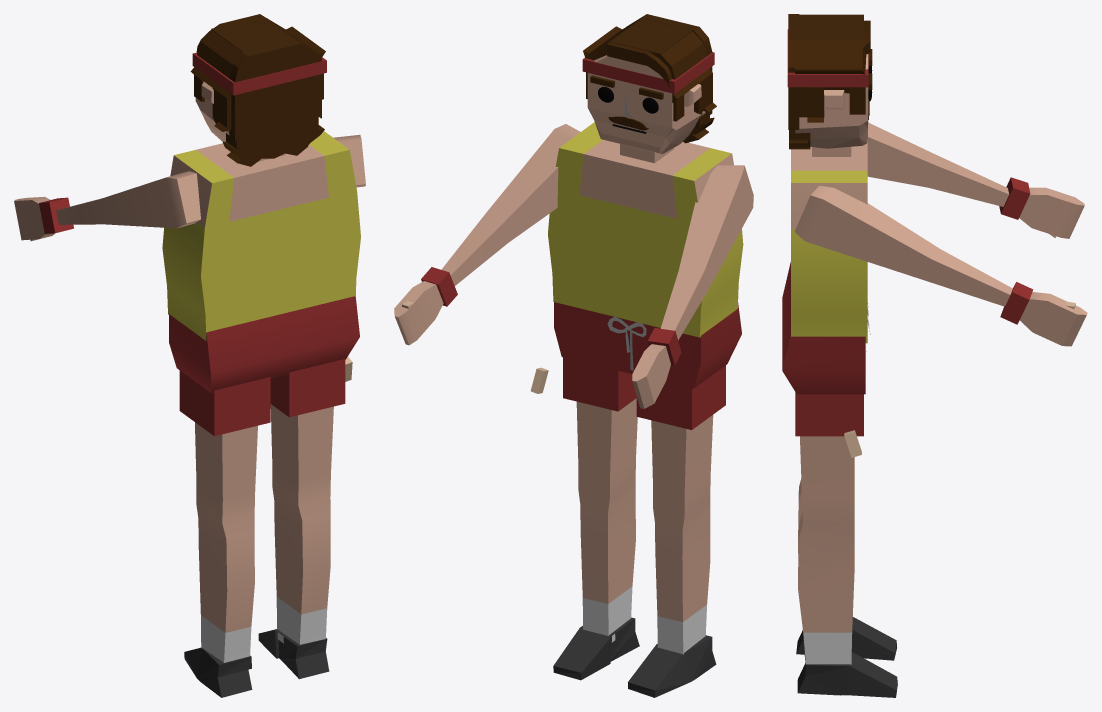
The model's file is guyarmsholding.fbx.
3 renders of one model, left to right at view 1: azimuth 30°, elevation 25°; view 2: azimuth 150°, elevation 25°; view 3: azimuth 270°, elevation 25°, orthographic.
Parts seen in each view (by area): view 1: pCube59, pCube63, pCube66, pCube60, pCube153, pCube45, pCube62, pCube61, pCube51, pCube67, pCube65, pCube30 (+4 smaller); view 2: pCube59, pCube63, pCube66, pCube153, pCube154, pCube60, pCube27, pCube62, pCube67, pCube65, pCube61, pCube30 (+5 smaller); view 3: pCube154, pCube63, pCube59, pCube153, pCube60, pCube65, pCube61, pCube27, pCube29, pCube36, pCube67, pCube30 (+2 smaller).
Boxes of the visible parts, left/top/right/bottom form: pCube59: left=162, top=131, right=360, bottom=340; pCube63: left=270, top=404, right=333, bottom=644; pCube66: left=195, top=422, right=257, bottom=662; pCube60: left=169, top=296, right=359, bottom=393; pCube153: left=14, top=171, right=200, bottom=241; pCube45: left=229, top=39, right=321, bottom=144; pCube62: left=179, top=370, right=270, bottom=436; pCube61: left=270, top=359, right=345, bottom=417; pCube51: left=226, top=106, right=318, bottom=160; pCube67: left=184, top=647, right=252, bottom=697; pCube65: left=258, top=629, right=329, bottom=679; pCube30: left=192, top=52, right=326, bottom=95; pCube59: left=548, top=122, right=743, bottom=337; pCube63: left=576, top=398, right=637, bottom=642; pCube66: left=651, top=415, right=713, bottom=654; pCube153: left=632, top=165, right=753, bottom=408; pCube154: left=394, top=124, right=580, bottom=345; pCube60: left=554, top=302, right=741, bottom=388; pCube27: left=587, top=55, right=705, bottom=154; pCube62: left=636, top=365, right=725, bottom=429; pCube67: left=628, top=635, right=716, bottom=697; pCube65: left=553, top=617, right=639, bottom=680; pCube61: left=563, top=357, right=636, bottom=411; pCube30: left=582, top=52, right=714, bottom=93; pCube154: left=794, top=185, right=1087, bottom=346; pCube63: left=798, top=436, right=854, bottom=664; pCube59: left=791, top=141, right=867, bottom=343; pCube153: left=867, top=122, right=1084, bottom=238; pCube60: left=782, top=262, right=865, bottom=394; pCube65: left=797, top=649, right=897, bottom=697; pCube61: left=795, top=392, right=863, bottom=436; pCube27: left=795, top=54, right=868, bottom=148; pCube29: left=795, top=45, right=866, bottom=74; pCube36: left=799, top=14, right=863, bottom=45; pCube67: left=796, top=617, right=896, bottom=660; pCube30: left=787, top=29, right=868, bottom=87.
Bounding box in the file's own units: 4.28 × 10.23 × 4.44.
